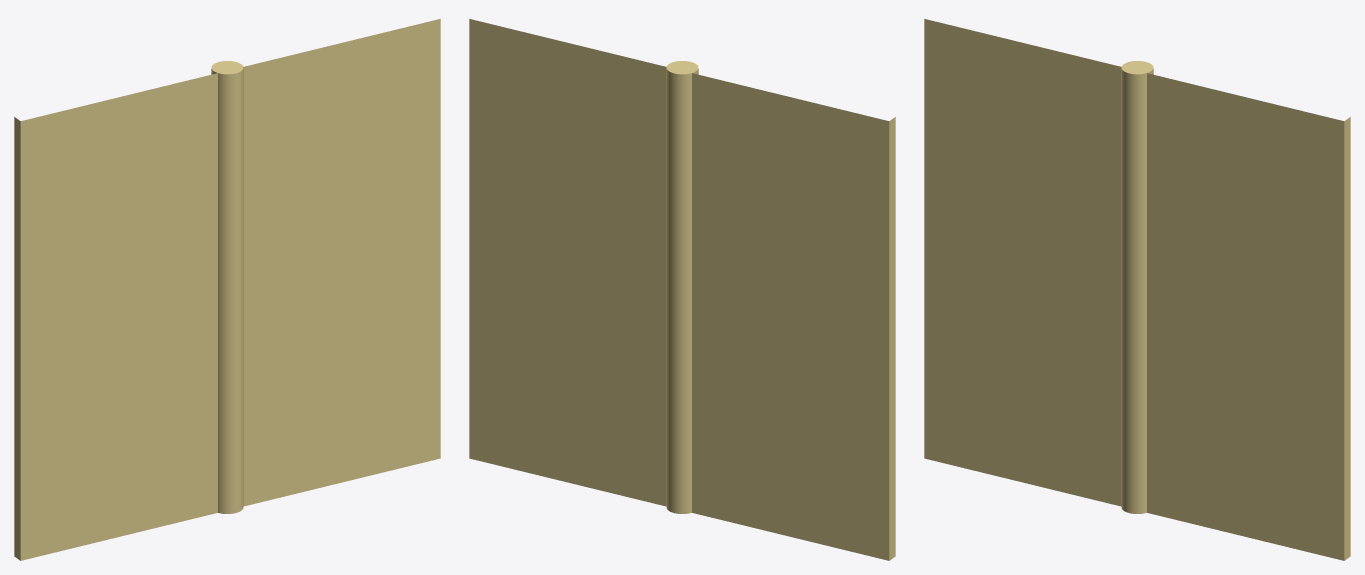
File: butt-hinge.gltf
3 views of the same model, side by side, from view 1: azimuth 30°, elevation 25°; view 2: azimuth 150°, elevation 25°; view 3: azimuth 330°, elevation 25° (orthographic).
Parts seen in each view (by area): view 1: LeftLeaf, RightLeaf, Pin; view 2: LeftLeaf, RightLeaf, Pin; view 3: RightLeaf, LeftLeaf, Pin.
Boxes of the visible parts, x1=… form: LeftLeaf: x1=14, y1=73, x2=217, y2=560; RightLeaf: x1=243, y1=19, x2=440, y2=506; Pin: x1=211, y1=61, x2=243, y2=513; LeftLeaf: x1=692, y1=73, x2=895, y2=560; RightLeaf: x1=469, y1=19, x2=666, y2=506; Pin: x1=666, y1=61, x2=698, y2=513; RightLeaf: x1=1147, y1=73, x2=1350, y2=560; LeftLeaf: x1=924, y1=19, x2=1121, y2=506; Pin: x1=1121, y1=61, x2=1153, y2=513.
Size of the model in its own units: 3 by 3 by 0.2.
